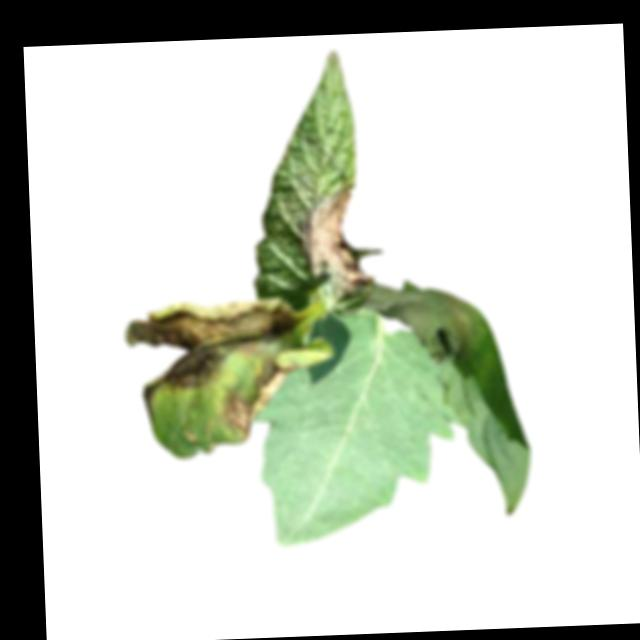Late_blight: (122, 296, 303, 407), (367, 280, 482, 365), (300, 183, 377, 295), (218, 351, 293, 441)
